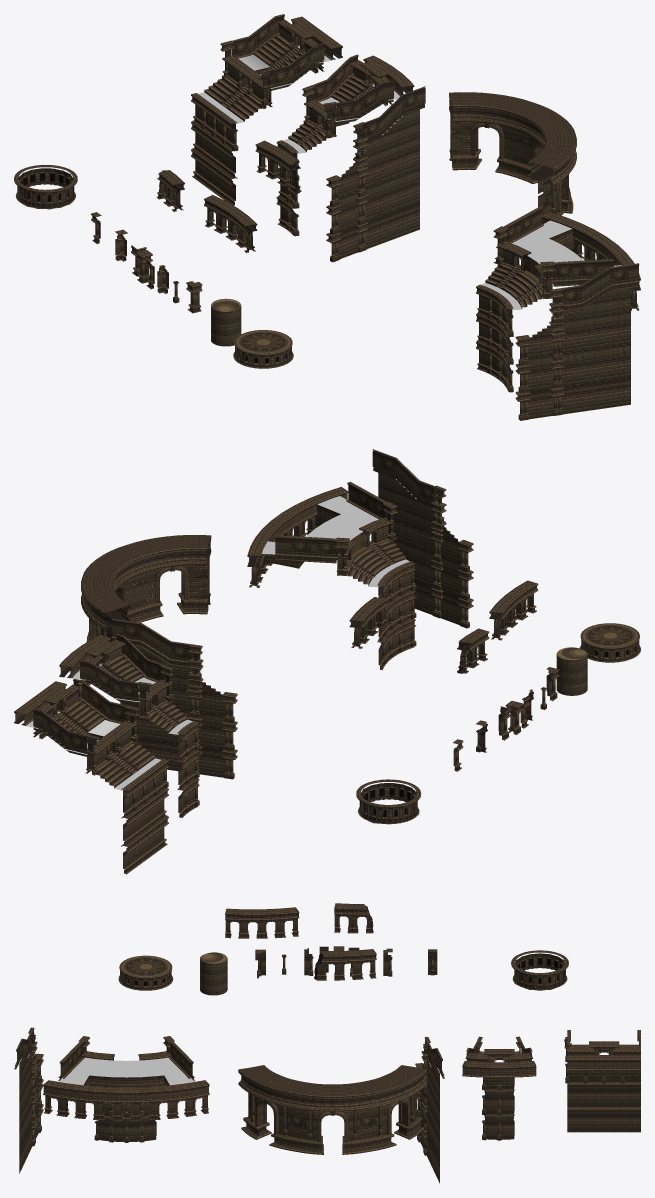
Rendered from EnvMdrMD_Ruins_D_Wall_CoIn_A.FBX.
3 views of the same model, one above another, from view 1: azimuth 30°, elevation 25°; view 2: azimuth 150°, elevation 25°; view 3: azimuth 270°, elevation 25° (orthographic). The views are drawn at different scales.
Parts seen in each view (by area): view 1: EnvMdrMD_Ruins_D_Wall_Round_C, EnvMdrMD_Ruins_D_Wall_Round_E, EnvMdrMD_Ruins_D_Wall_Round_F, EnvMdrMD_Ruins_D_Wall_Round_B, EnvMdrMD_Ruins_D_Wall_Round_A_3Piece, EnvMdrMD_Ruins_D_Wall_Round_A, EnvMdrMD_Ruins_D_Wall_Stage_B, EnvMdrMD_Ruins_D_Wall_Stage_A, EnvMdrMD_Ruins_D_Wall_Round_Wall_A, EnvMdrMD_Ruins_D_Wall_Round_Wall_A_Right, EnvMdrMD_Ruins_D_Wall_Stage_C, EnvMdrMD_Ruins_D_Wall_Round_Wall_A_Left; view 2: EnvMdrMD_Ruins_D_Wall_Round_E, EnvMdrMD_Ruins_D_Wall_Round_F, EnvMdrMD_Ruins_D_Wall_Round_A_3Piece, EnvMdrMD_Ruins_D_Wall_Round_C, EnvMdrMD_Ruins_D_Wall_Round_B, EnvMdrMD_Ruins_D_Wall_Round_A, EnvMdrMD_Ruins_D_Wall_Stage_B, EnvMdrMD_Ruins_D_Wall_Stage_A, EnvMdrMD_Ruins_D_Wall_Round_Wall_A, EnvMdrMD_Ruins_D_Wall_Stage_C, EnvMdrMD_Ruins_D_Wall_Round_Wall_A_Right, EnvMdrMD_Ruins_D_Wall_Round_Wall_A_Left; view 3: EnvMdrMD_Ruins_D_Wall_Round_A_3Piece, EnvMdrMD_Ruins_D_Wall_Round_E, EnvMdrMD_Ruins_D_Wall_Round_F, EnvMdrMD_Ruins_D_Wall_Round_A, EnvMdrMD_Ruins_D_Wall_Round_C, EnvMdrMD_Ruins_D_Wall_Round_B, EnvMdrMD_Ruins_D_Wall_Stage_B, EnvMdrMD_Ruins_D_Wall_Round_Wall_A, EnvMdrMD_Ruins_D_Wall_Stage_A, EnvMdrMD_Ruins_D_Wall_Round_Wall_A_Right, EnvMdrMD_Ruins_D_Wall_Stage_C, EnvMdrMD_Ruins_D_Wall_Round_Wall_A_Left.
Part boxes in pixels (x1=…): EnvMdrMD_Ruins_D_Wall_Round_C: x1=515, y1=263, x2=639, y2=420; EnvMdrMD_Ruins_D_Wall_Round_E: x1=476, y1=206, x2=640, y2=392; EnvMdrMD_Ruins_D_Wall_Round_F: x1=191, y1=14, x2=342, y2=205; EnvMdrMD_Ruins_D_Wall_Round_B: x1=326, y1=86, x2=425, y2=262; EnvMdrMD_Ruins_D_Wall_Round_A_3Piece: x1=449, y1=92, x2=576, y2=223; EnvMdrMD_Ruins_D_Wall_Round_A: x1=276, y1=54, x2=414, y2=236; EnvMdrMD_Ruins_D_Wall_Stage_B: x1=14, y1=165, x2=77, y2=209; EnvMdrMD_Ruins_D_Wall_Stage_A: x1=233, y1=330, x2=293, y2=368; EnvMdrMD_Ruins_D_Wall_Round_Wall_A: x1=204, y1=195, x2=257, y2=252; EnvMdrMD_Ruins_D_Wall_Round_Wall_A_Right: x1=255, y1=140, x2=301, y2=193; EnvMdrMD_Ruins_D_Wall_Stage_C: x1=211, y1=298, x2=241, y2=346; EnvMdrMD_Ruins_D_Wall_Round_Wall_A_Left: x1=156, y1=170, x2=184, y2=211; EnvMdrMD_Ruins_D_Wall_Round_E: x1=247, y1=481, x2=416, y2=670; EnvMdrMD_Ruins_D_Wall_Round_F: x1=14, y1=678, x2=168, y2=874; EnvMdrMD_Ruins_D_Wall_Round_A_3Piece: x1=81, y1=535, x2=211, y2=672; EnvMdrMD_Ruins_D_Wall_Round_C: x1=372, y1=449, x2=473, y2=628; EnvMdrMD_Ruins_D_Wall_Round_B: x1=111, y1=619, x2=237, y2=779; EnvMdrMD_Ruins_D_Wall_Round_A: x1=59, y1=633, x2=199, y2=817; EnvMdrMD_Ruins_D_Wall_Stage_B: x1=356, y1=779, x2=421, y2=824; EnvMdrMD_Ruins_D_Wall_Stage_A: x1=579, y1=623, x2=640, y2=662; EnvMdrMD_Ruins_D_Wall_Round_Wall_A: x1=489, y1=580, x2=538, y2=640; EnvMdrMD_Ruins_D_Wall_Stage_C: x1=556, y1=647, x2=587, y2=695; EnvMdrMD_Ruins_D_Wall_Round_Wall_A_Right: x1=349, y1=597, x2=388, y2=648; EnvMdrMD_Ruins_D_Wall_Round_Wall_A_Left: x1=457, y1=628, x2=489, y2=673; EnvMdrMD_Ruins_D_Wall_Round_A_3Piece: x1=238, y1=1065, x2=427, y2=1154; EnvMdrMD_Ruins_D_Wall_Round_E: x1=43, y1=1036, x2=209, y2=1142; EnvMdrMD_Ruins_D_Wall_Round_F: x1=564, y1=1030, x2=640, y2=1132; EnvMdrMD_Ruins_D_Wall_Round_A: x1=462, y1=1036, x2=536, y2=1140; EnvMdrMD_Ruins_D_Wall_Round_C: x1=14, y1=1027, x2=43, y2=1173; EnvMdrMD_Ruins_D_Wall_Round_B: x1=415, y1=1037, x2=444, y2=1183; EnvMdrMD_Ruins_D_Wall_Stage_B: x1=511, y1=950, x2=568, y2=990; EnvMdrMD_Ruins_D_Wall_Round_Wall_A: x1=225, y1=907, x2=299, y2=938; EnvMdrMD_Ruins_D_Wall_Stage_A: x1=118, y1=955, x2=173, y2=990; EnvMdrMD_Ruins_D_Wall_Round_Wall_A_Right: x1=314, y1=949, x2=376, y2=980; EnvMdrMD_Ruins_D_Wall_Stage_C: x1=200, y1=952, x2=227, y2=995; EnvMdrMD_Ruins_D_Wall_Round_Wall_A_Left: x1=334, y1=903, x2=373, y2=933.
Size of the model in its own units: 9760 by 3500 by 13631.
